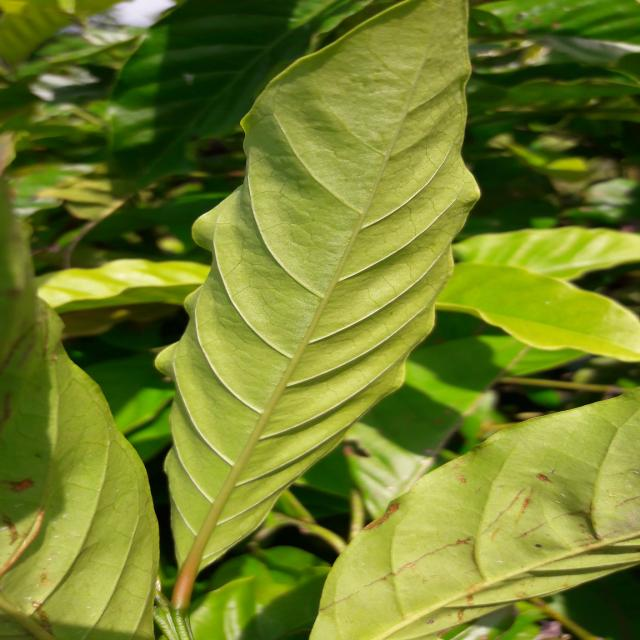Sanas: (153, 0, 482, 609)
